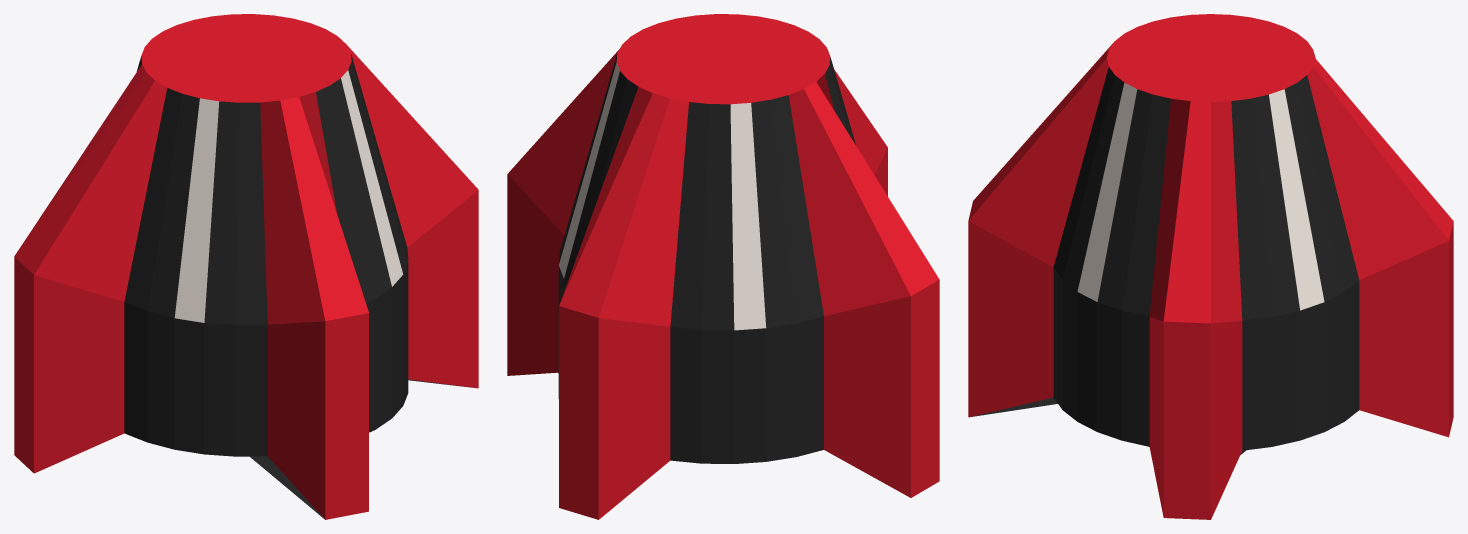
File: bomb.fbx
The picture shows the model from 3 angles, left to right: view 1: azimuth 30°, elevation 25°; view 2: azimuth 150°, elevation 25°; view 3: azimuth 270°, elevation 25°; orthographic projection. The views are drawn at different scales.
Visible parts, largest first — view 1: Circle; view 2: Circle; view 3: Circle.
Part boxes in pixels (x1,y1,x2,y2): Circle: (14, 14, 478, 519); Circle: (507, 14, 939, 519); Circle: (968, 14, 1453, 519).
Size of the model in its own units: 302 by 247 by 302.
